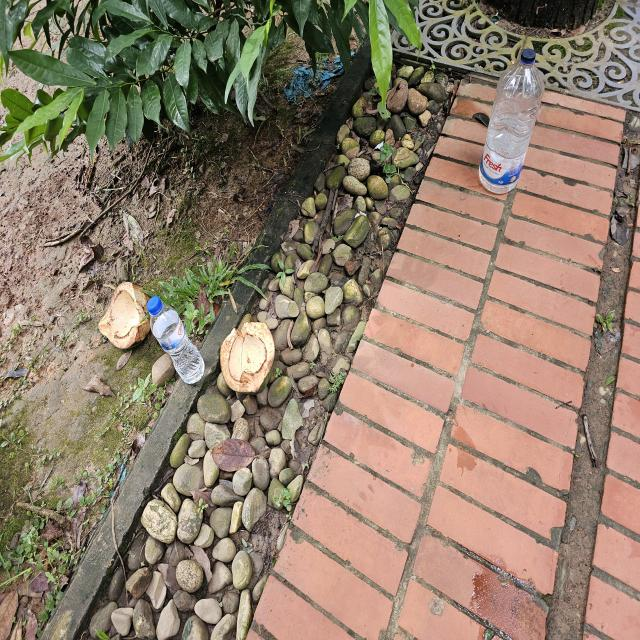artificial_container: (479, 48, 543, 195), (147, 296, 205, 384)
